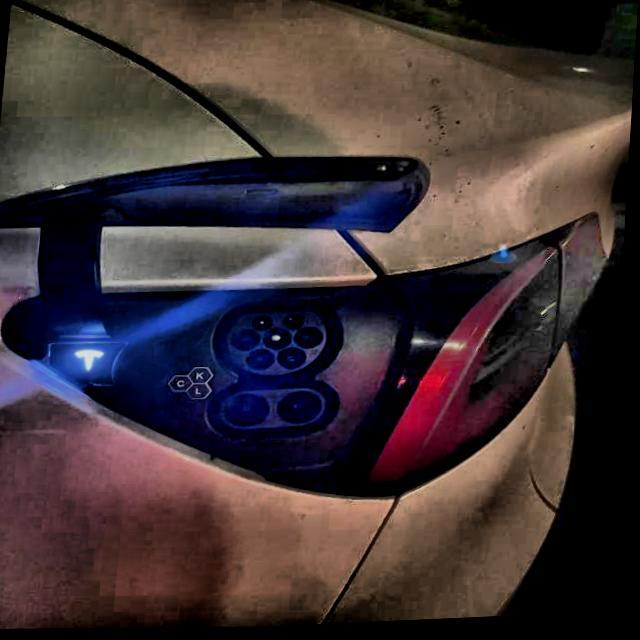inlet: (230, 313, 330, 377)
inlet-above-left: (255, 317, 276, 333)
inlet-above-right: (287, 316, 307, 332)
inlet-below-left: (250, 351, 278, 372)
inlet-below-right: (281, 350, 310, 371)
inlet-center: (267, 330, 296, 352)
inlet-center-left: (235, 332, 264, 352)
inlet-center-right: (297, 329, 327, 351)
